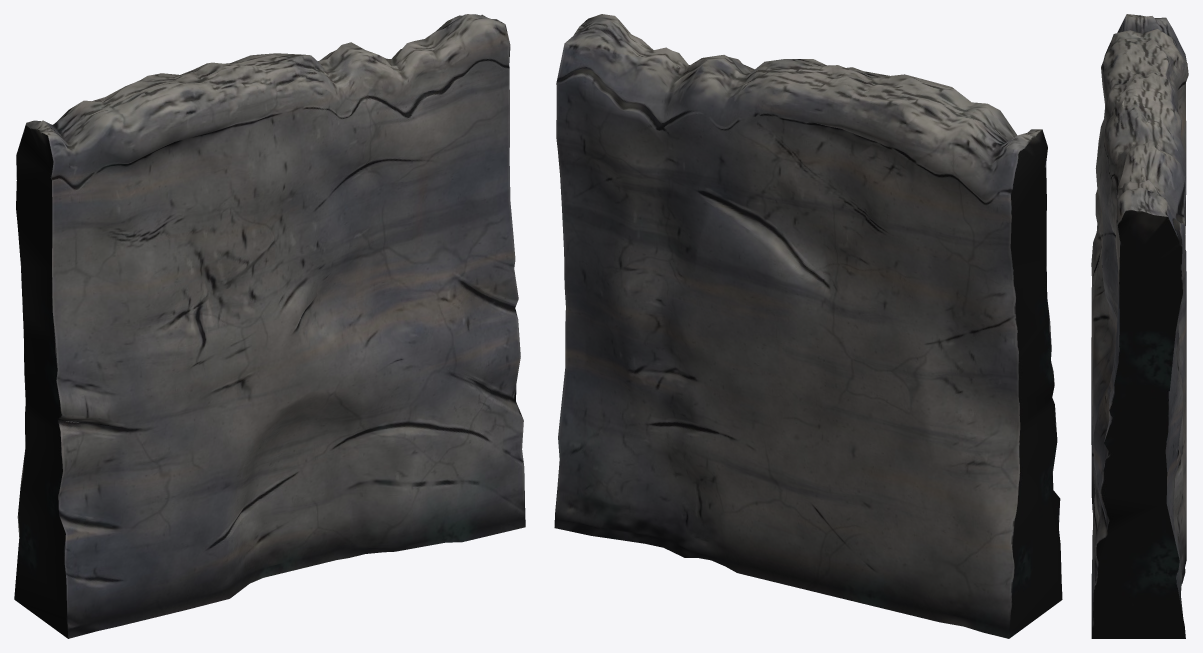
The model's file is cavern_wall_b.glb.
3 views of the same model, side by side, from view 1: azimuth 30°, elevation 25°; view 2: azimuth 150°, elevation 25°; view 3: azimuth 270°, elevation 25° (orthographic). The views are drawn at different scales.
Visible parts, largest first — view 1: cavern_wall_b; view 2: cavern_wall_b; view 3: cavern_wall_b.
Boxes of the visible parts, x1=… form: cavern_wall_b: x1=14, y1=14, x2=525, y2=638; cavern_wall_b: x1=554, y1=14, x2=1062, y2=638; cavern_wall_b: x1=1091, y1=14, x2=1188, y2=638.
Size of the model in its own units: 4 by 4.25 by 0.8394.
1 material, 1 textured.
